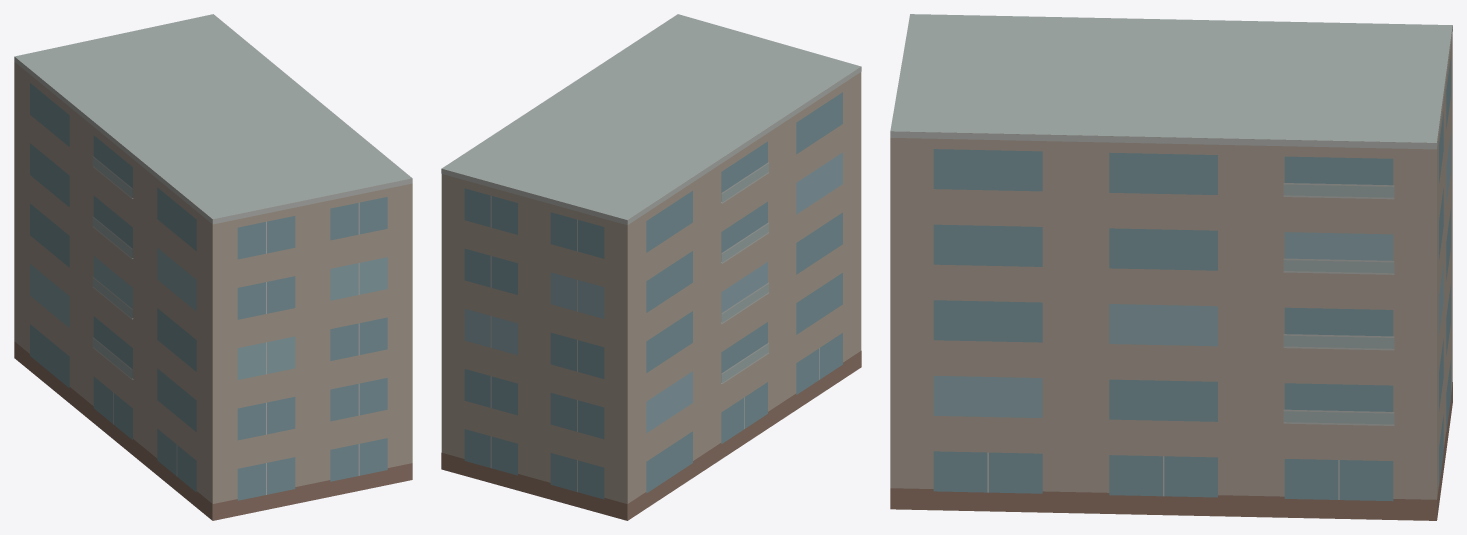
Rendered from survey-upis-32766840.glb.
The picture shows the model from 3 angles, left to right: view 1: azimuth 30°, elevation 25°; view 2: azimuth 150°, elevation 25°; view 3: azimuth 270°, elevation 25°; orthographic projection. The views are drawn at different scales.
Parts seen in each view (by area): view 1: survey-upis-32766840.tmp; view 2: survey-upis-32766840.tmp; view 3: survey-upis-32766840.tmp.
Part boxes in pixels (x1=…): survey-upis-32766840.tmp: x1=14, y1=14, x2=412, y2=520; survey-upis-32766840.tmp: x1=441, y1=14, x2=861, y2=520; survey-upis-32766840.tmp: x1=890, y1=14, x2=1452, y2=520.
Size of the model in its own units: 10.48 by 14.3 by 19.3.
